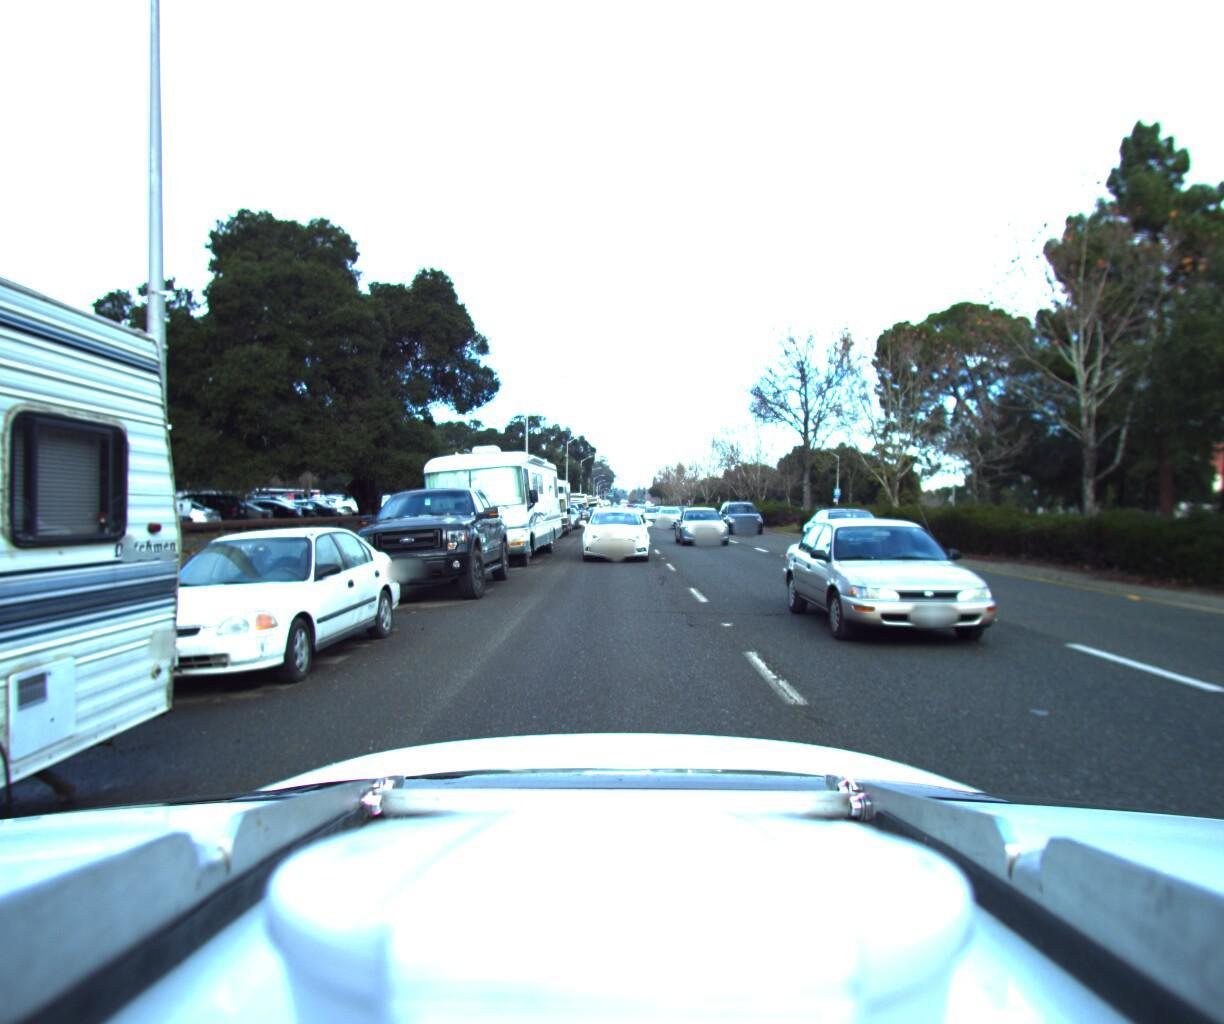car: (47, 515, 407, 705), (794, 503, 1104, 677), (330, 473, 515, 607), (809, 501, 926, 563), (576, 499, 655, 559), (673, 498, 740, 544), (716, 493, 773, 530), (651, 497, 686, 523), (640, 501, 664, 518)
other_vehicle: (406, 430, 565, 568), (558, 484, 589, 515)
